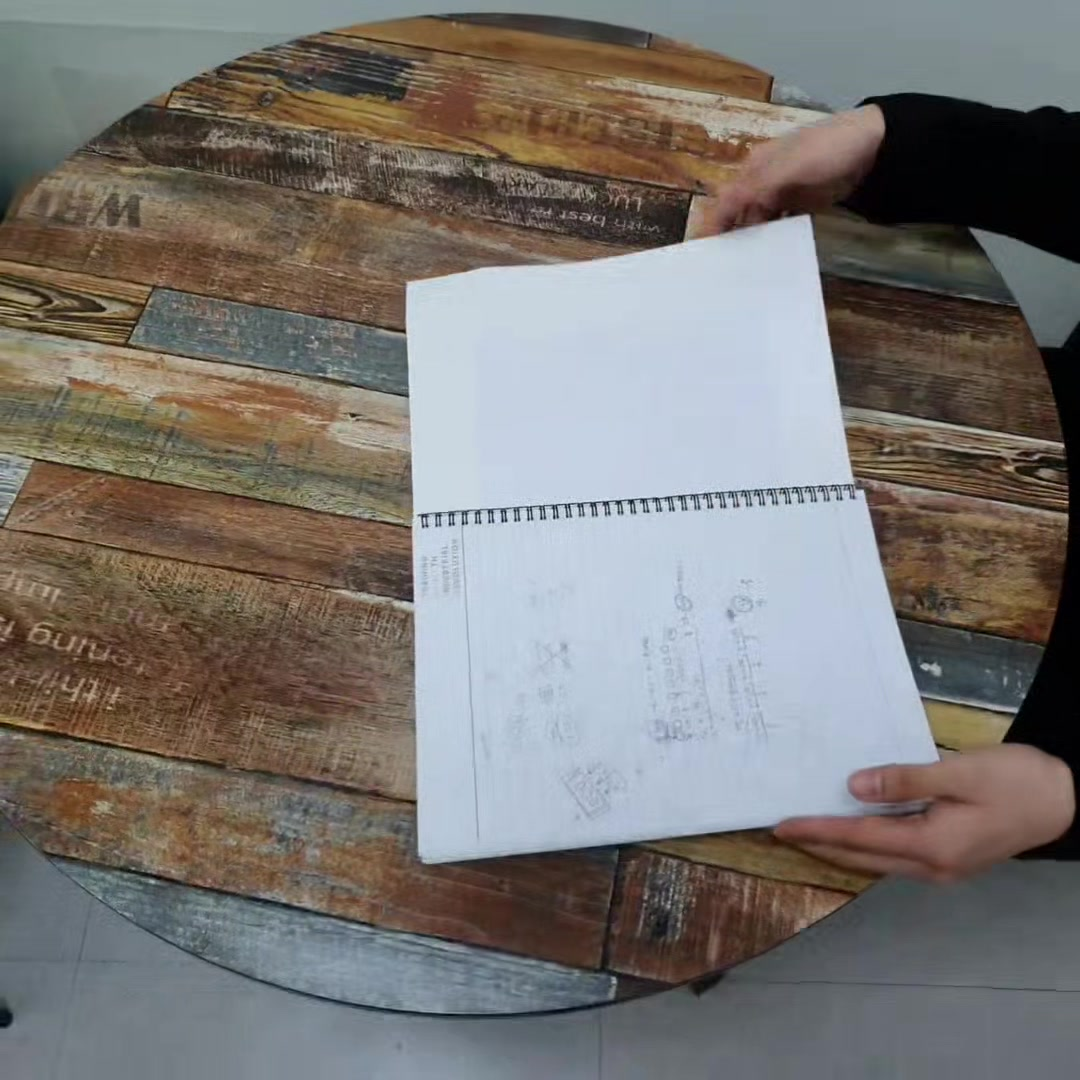book: (397, 218, 926, 830)
